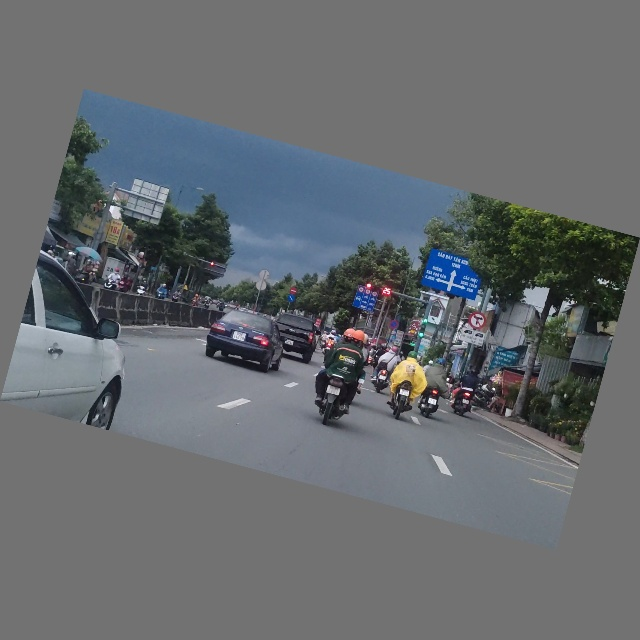P.102: (289, 287, 298, 296)
P.131a: (388, 320, 399, 331)
P.137: (467, 311, 488, 332)
R.302a: (287, 295, 296, 303)
R.415a: (352, 291, 377, 314)
